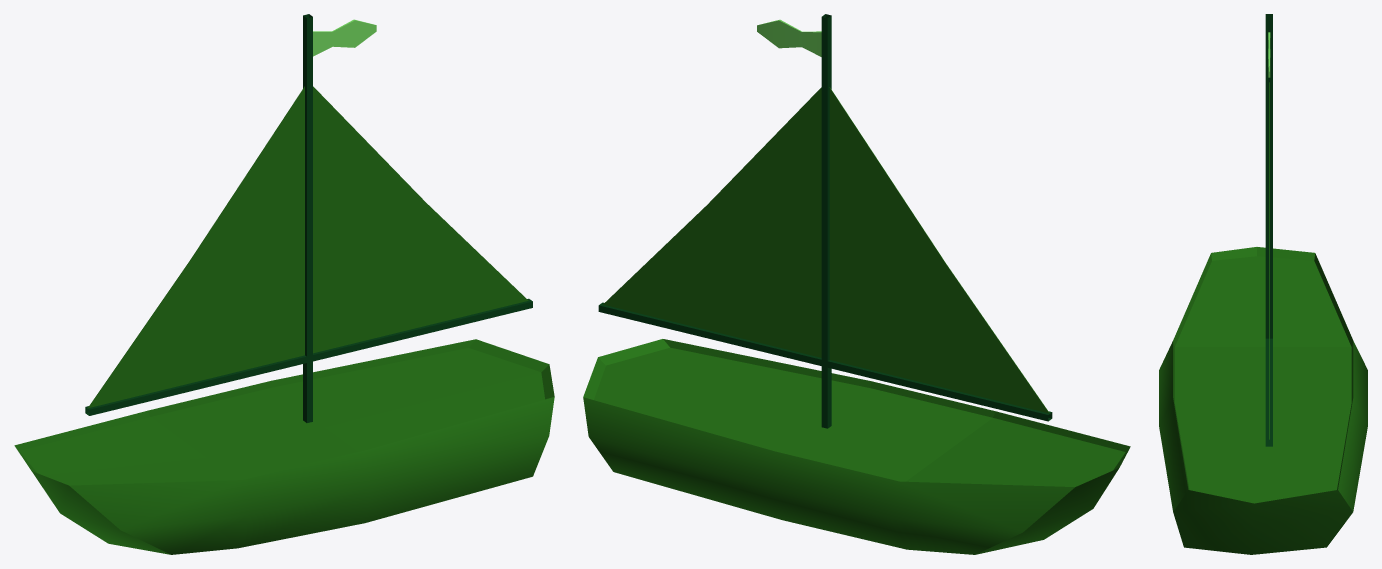
File: barco verde.FBX
The picture shows the model from 3 angles, left to right: view 1: azimuth 30°, elevation 25°; view 2: azimuth 150°, elevation 25°; view 3: azimuth 270°, elevation 25°; orthographic projection. The views are drawn at different scales.
Parts seen in each view (by area): view 1: Barco a vela; view 2: Barco a vela; view 3: Barco a vela.
Part boxes in pixels (bbox=[...]): Barco a vela: bbox=[14, 14, 554, 554]; Barco a vela: bbox=[583, 14, 1130, 554]; Barco a vela: bbox=[1159, 14, 1367, 554].
Bounding box in the file's own units: 6.1 × 2.25 × 5.32.
